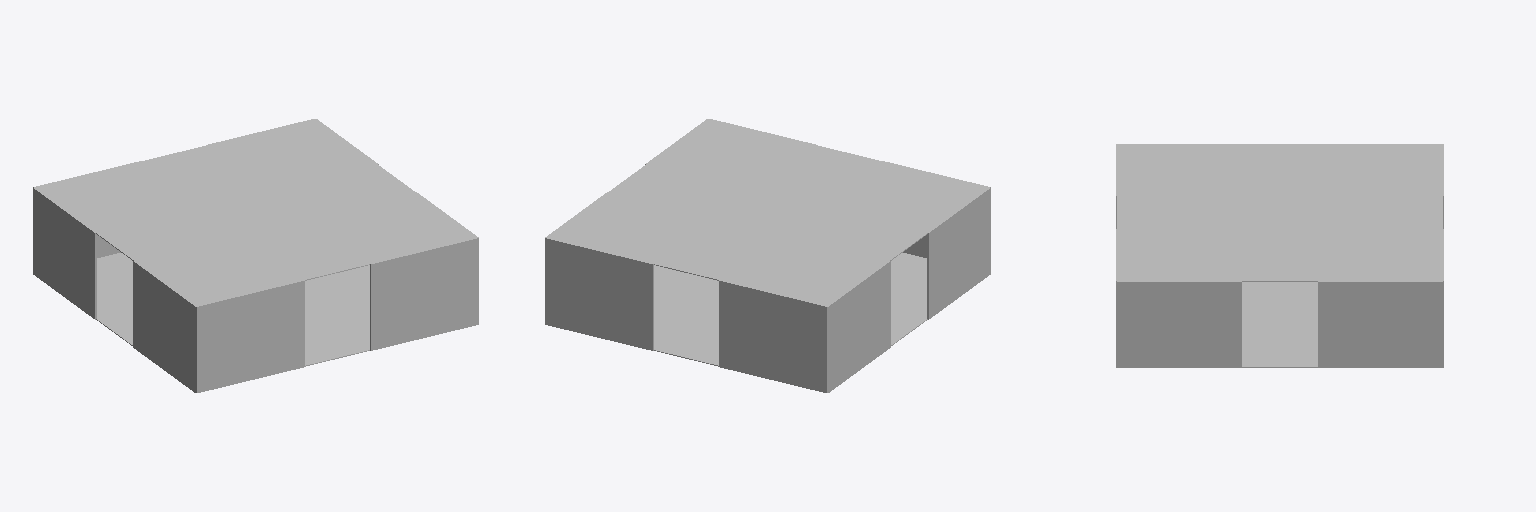
Rendered from concretebuilding.obj.
The picture shows the model from 3 angles: view 1: azimuth 30°, elevation 25°; view 2: azimuth 150°, elevation 25°; view 3: azimuth 270°, elevation 25°; orthographic projection.
Visible parts, largest first — view 1: Cube.001, Cube.007, Cube.006, Cube, Cube.004, Cube.005; view 2: Cube.001, Cube.008, Cube.009, Cube, Cube.005, Cube.004; view 3: Cube.001, Cube.002, Cube.003, Cube.
Part boxes in pixels (bbox=[...]): Cube.001: bbox=[36, 119, 477, 305]; Cube.007: bbox=[196, 280, 304, 392]; Cube.006: bbox=[370, 238, 478, 350]; Cube: bbox=[96, 253, 369, 366]; Cube.004: bbox=[33, 187, 96, 319]; Cube.005: bbox=[133, 261, 195, 392]; Cube.001: bbox=[546, 119, 987, 305]; Cube.008: bbox=[719, 280, 827, 392]; Cube.009: bbox=[545, 238, 653, 350]; Cube: bbox=[654, 253, 927, 366]; Cube.005: bbox=[927, 187, 990, 319]; Cube.004: bbox=[827, 261, 890, 392]; Cube.001: bbox=[1117, 144, 1442, 281]; Cube.002: bbox=[1117, 281, 1241, 367]; Cube.003: bbox=[1318, 281, 1442, 367]; Cube: bbox=[1242, 282, 1317, 367].
Size of the model in its own units: 34.21 by 10 by 34.21.